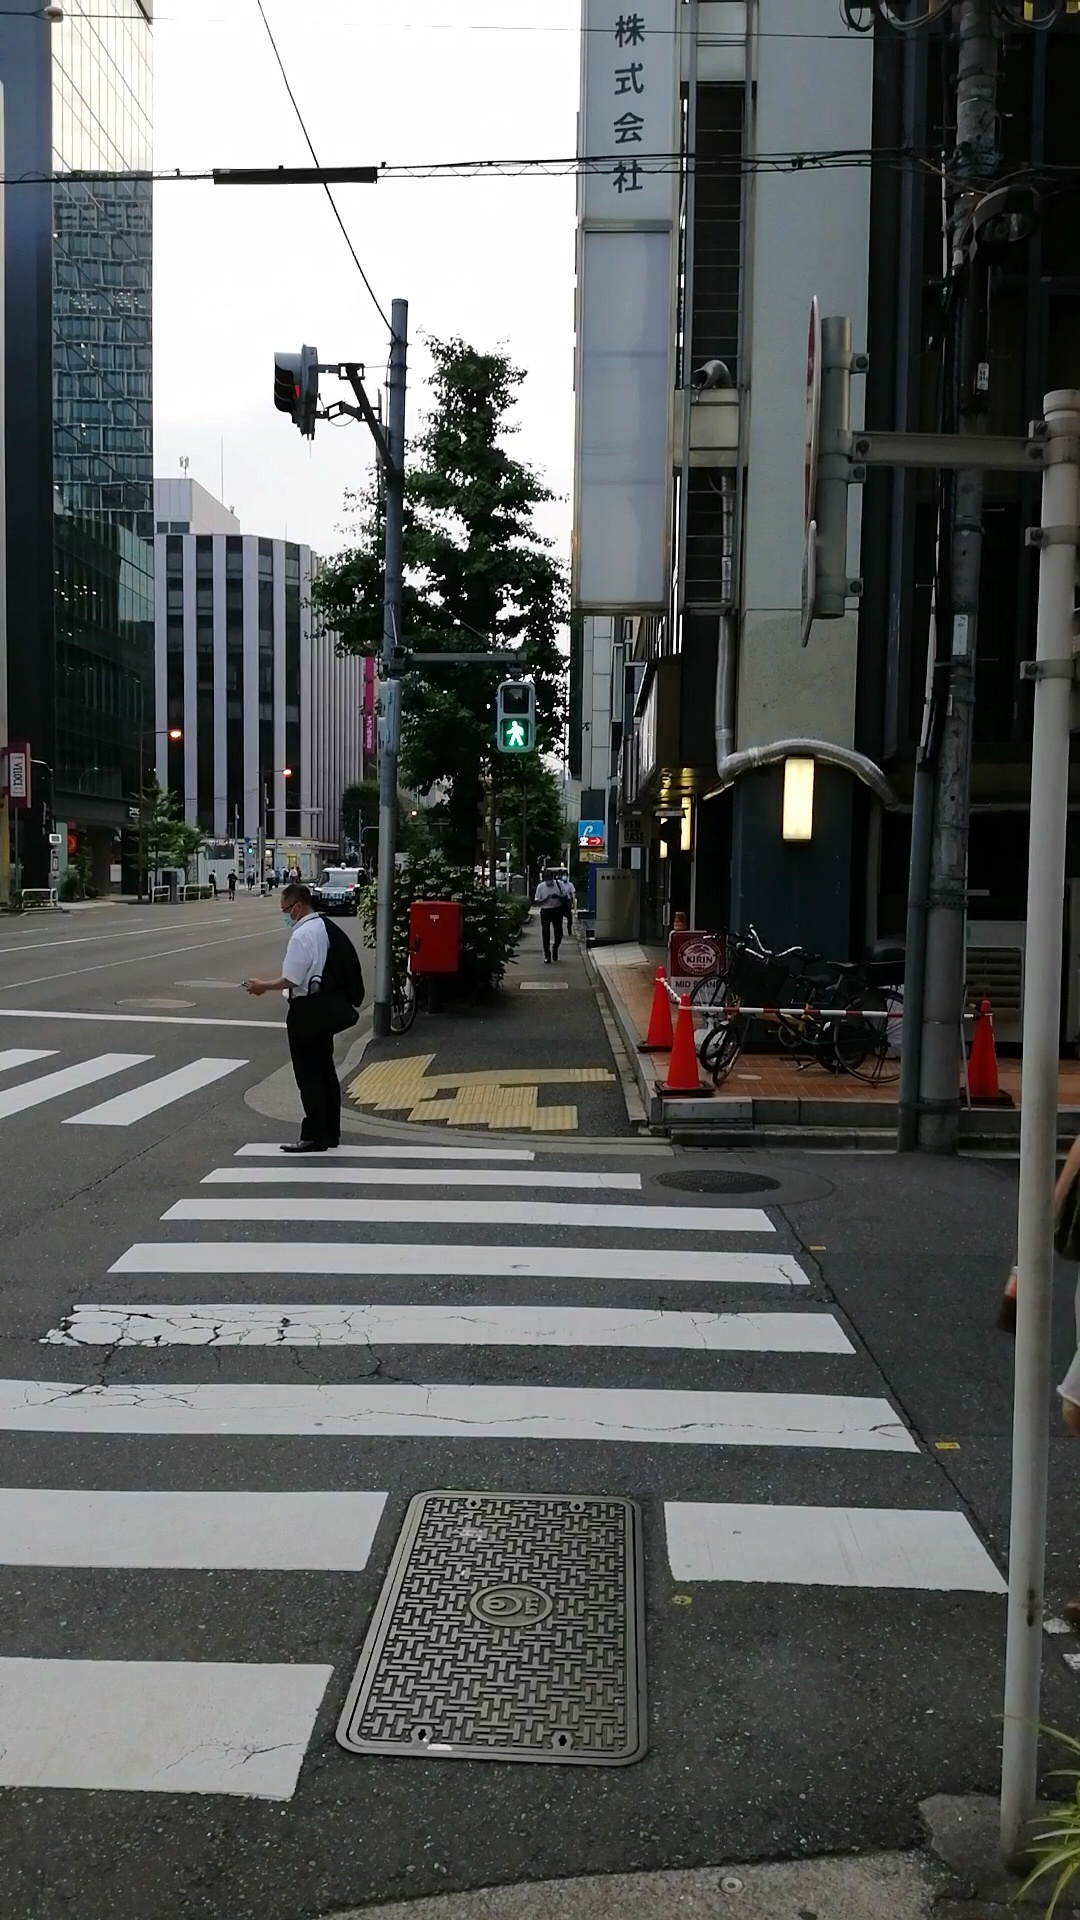green: (496, 679, 534, 752)
